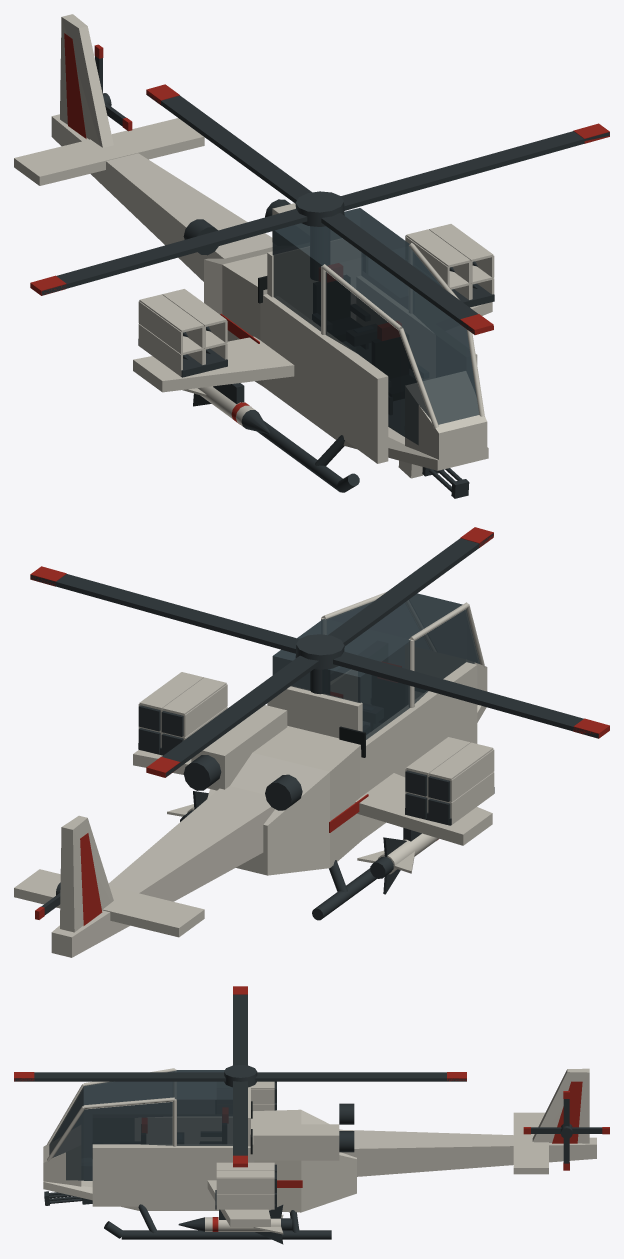
3 renders of one model, top to bottom at view 1: azimuth 30°, elevation 25°; view 2: azimuth 150°, elevation 25°; view 3: azimuth 270°, elevation 25°, orthographic. The views are drawn at different scales.
Parts seen in each view (by area): view 1: helicopter-painted, helicopter-glazing, rocket-pod--1-painted, blade-arm-2-painted, blade-arm-0-painted, rocket-pod-1-painted, blade-arm-3-painted, blade-arm-1-painted, crew-chair-pilot-painted, crew-chair-gunner-painted, store-left-large-painted, rotor-main-fleet-machine; view 2: helicopter-painted, helicopter-glazing, rocket-pod--1-painted, rocket-pod-1-painted, blade-arm-2-painted, blade-arm-0-painted, blade-arm-1-painted, blade-arm-3-painted, breakaway-1-painted, store-left-large-painted, rotor-main-fleet-machine, crew-chair-gunner-painted; view 3: helicopter-painted, helicopter-glazing, breakaway-1-painted, rocket-pod-1-painted, blade-arm-1-painted, blade-arm-3-painted, store-right-large-painted, blade-arm-0-painted, blade-arm-2-painted, rocket-pod--1-painted, rotor-main-fleet-machine, crew-chair-pilot-painted (+1 smaller).
Part boxes in pixels (x1,y1,x2,y2): helicopter-painted: (14,14,492,492); helicopter-glazing: (272,208,479,445); rocket-pod--1-painted: (138,289,227,377); blade-arm-2-painted: (30,209,307,295); blade-arm-0-painted: (341,123,609,210); rocket-pod-1-painted: (405,224,494,307); blade-arm-3-painted: (321,213,493,334); blade-arm-1-painted: (146,84,311,203); crew-chair-pilot-painted: (312,263,376,348); crew-chair-gunner-painted: (372,321,428,414); store-left-large-painted: (182,386,270,434); rotor-main-fleet-machine: (295,191,344,226); helicopter-painted: (14,592,492,957); helicopter-glazing: (272,593,480,739); rocket-pod--1-painted: (405,737,494,825); rocket-pod-1-painted: (138,672,227,755); blade-arm-2-painted: (333,651,609,738); blade-arm-0-painted: (30,566,298,653); blade-arm-1-painted: (146,655,318,777); blade-arm-3-painted: (328,527,493,645); breakaway-1-painted: (191,705,287,790); store-left-large-painted: (357,833,438,894); rotor-main-fleet-machine: (295,634,344,669); crew-chair-gunner-painted: (371,662,425,730); helicopter-painted: (43,1068,596,1239); helicopter-glazing: (49,1070,232,1180); breakaway-1-painted: (253,1124,339,1160); rocket-pod-1-painted: (215,1162,276,1209); blade-arm-1-painted: (255,1072,466,1081); blade-arm-3-painted: (14,1072,225,1081); store-right-large-painted: (178,1205,292,1244); blade-arm-0-painted: (233,1081,247,1167); blade-arm-2-painted: (233,986,247,1065); rocket-pod--1-painted: (249,1081,276,1110); rotor-main-fleet-machine: (224,1065,257,1087); crew-chair-pilot-painted: (177,1108,227,1143).
Size of the model in its own units: 50.4 by 18.38 by 66.32.
